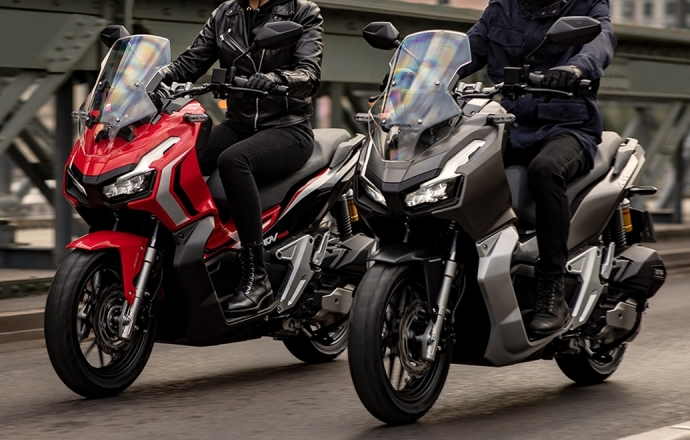motorcycle: (354, 15, 667, 430), (45, 20, 372, 406)
